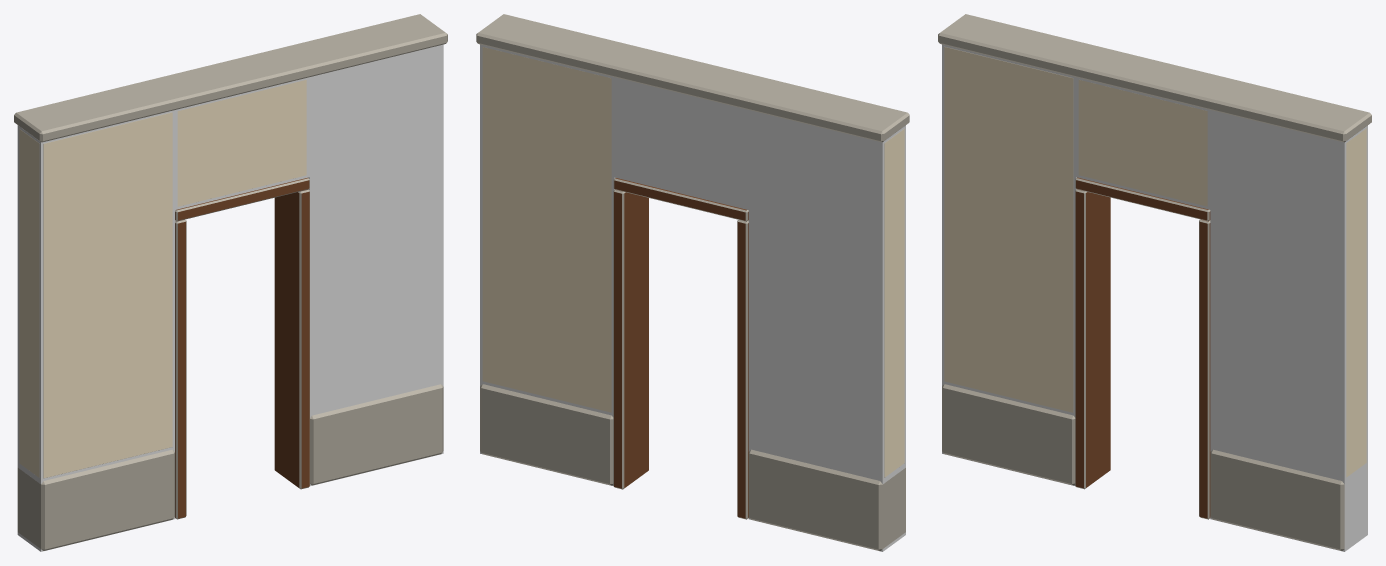
The model's file is bld_wall_door_a.glb.
The picture shows the model from 3 angles, left to right: view 1: azimuth 30°, elevation 25°; view 2: azimuth 150°, elevation 25°; view 3: azimuth 330°, elevation 25°; orthographic projection.
Parts seen in each view (by area): view 1: bld_wall_door_a, COL_bld_wall_door_a_2, COL_bld_wall_door_a_1, COL_bld_wall_door_a_3; view 2: bld_wall_door_a, COL_bld_wall_door_a_1, COL_bld_wall_door_a_3, COL_bld_wall_door_a_2; view 3: bld_wall_door_a, COL_bld_wall_door_a_2, COL_bld_wall_door_a_1, COL_bld_wall_door_a_3.
Part boxes in pixels (x1,y1,x2,y2): bld_wall_door_a: [14, 14, 447, 550]; COL_bld_wall_door_a_2: [308, 44, 443, 486]; COL_bld_wall_door_a_1: [17, 110, 175, 551]; COL_bld_wall_door_a_3: [175, 77, 309, 209]; bld_wall_door_a: [476, 14, 909, 550]; COL_bld_wall_door_a_1: [748, 110, 905, 551]; COL_bld_wall_door_a_3: [614, 77, 748, 209]; COL_bld_wall_door_a_2: [480, 44, 615, 486]; bld_wall_door_a: [938, 14, 1371, 550]; COL_bld_wall_door_a_2: [1210, 110, 1367, 551]; COL_bld_wall_door_a_1: [942, 44, 1076, 486]; COL_bld_wall_door_a_3: [1076, 77, 1210, 209].
Size of the model in its own units: 3.04 by 3 by 0.36.
